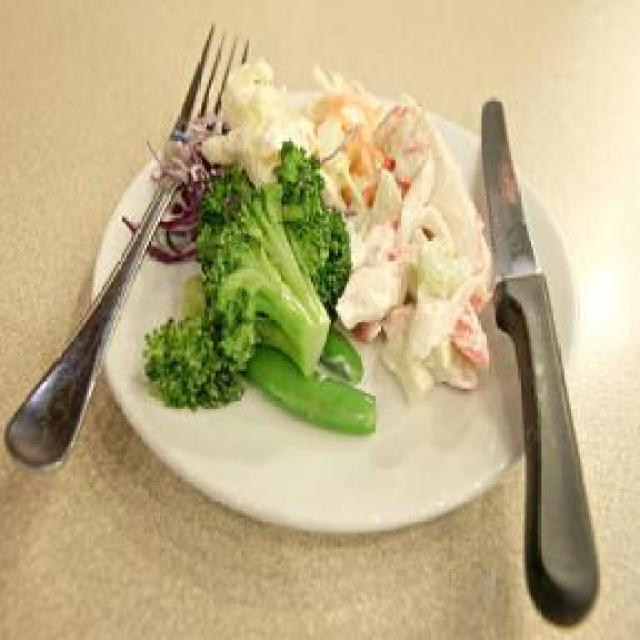knife: (473, 94, 619, 624)
